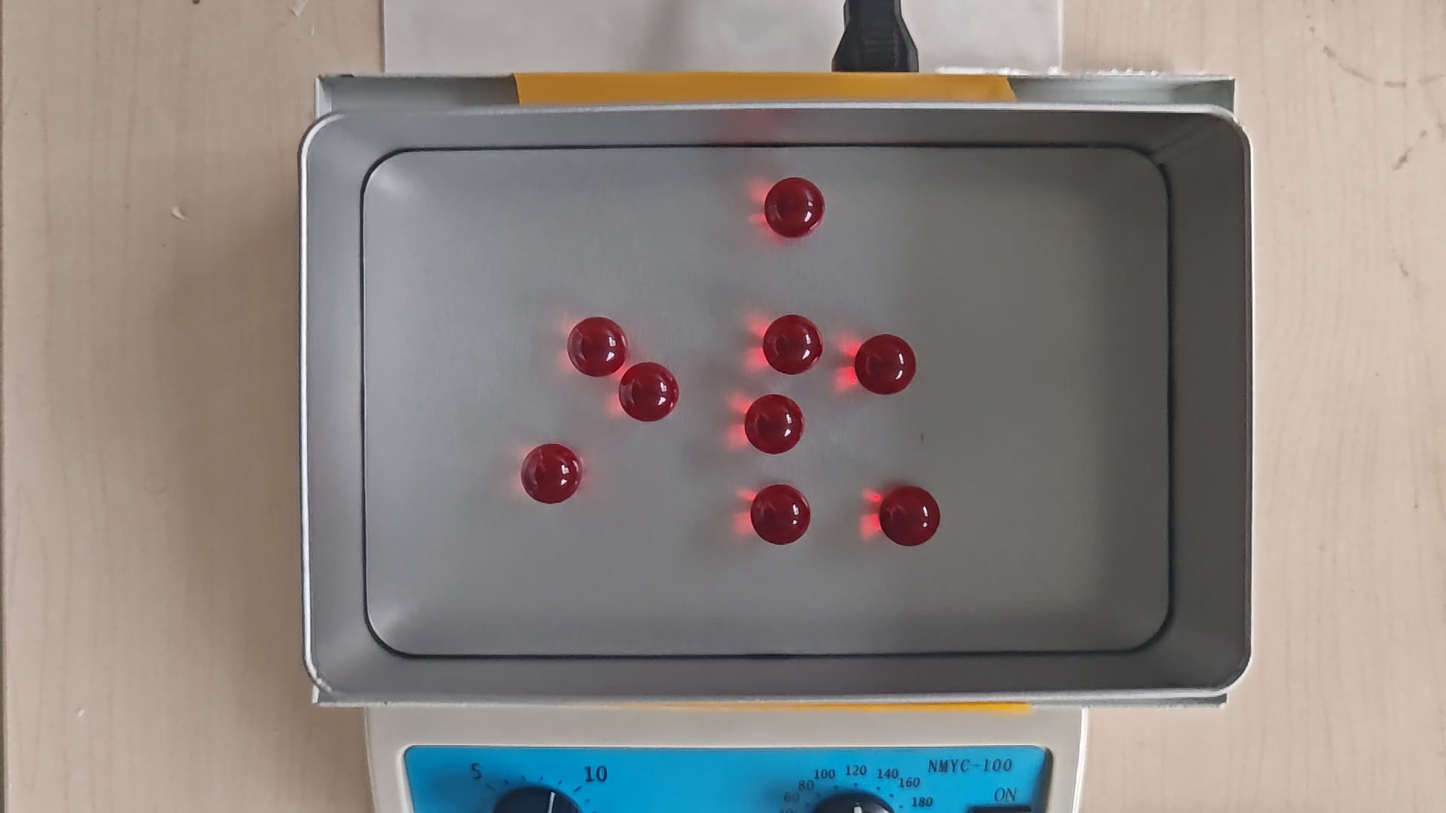ball: (521, 442, 583, 506), (855, 333, 917, 397), (879, 485, 941, 547), (750, 484, 812, 545), (744, 394, 805, 455), (568, 316, 628, 378), (619, 361, 679, 423), (763, 314, 823, 375), (765, 177, 825, 238)
container: (360, 144, 1174, 653)
